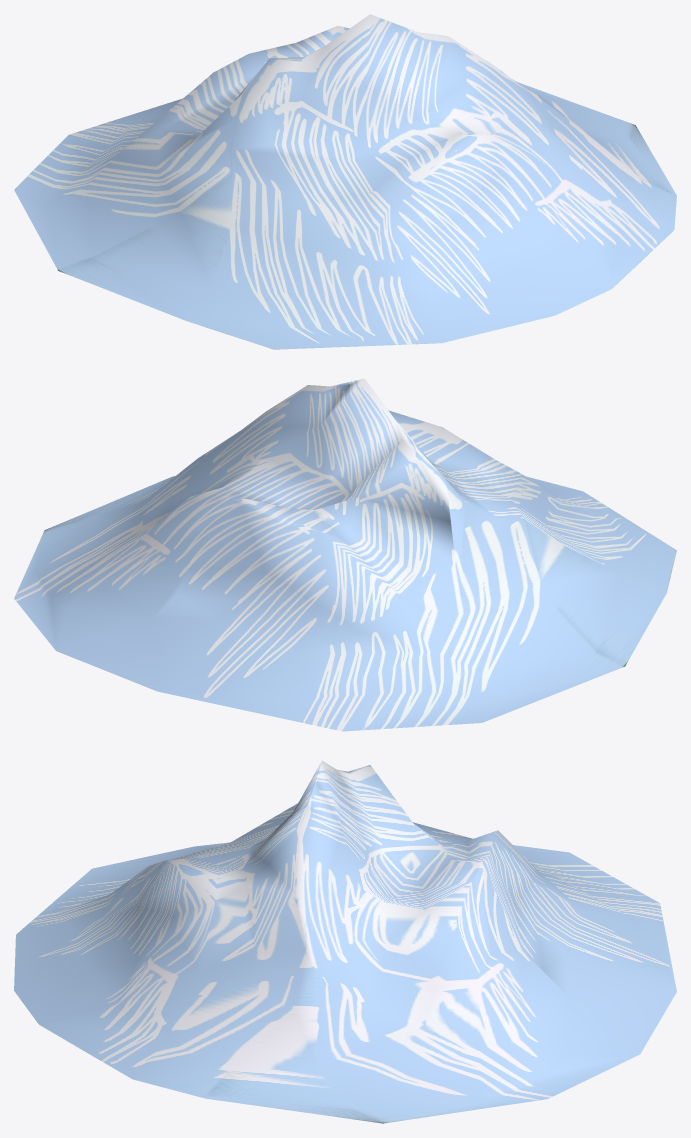
The model's file is mountain_1953.glb.
3 views of the same model, one above another, from view 1: azimuth 30°, elevation 25°; view 2: azimuth 150°, elevation 25°; view 3: azimuth 270°, elevation 25° (orthographic). The views are drawn at different scales.
Parts seen in each view (by area): view 1: Mountain_1953; view 2: Mountain_1953; view 3: Mountain_1953.
Part boxes in pixels (bbox=[...]): Mountain_1953: bbox=[14, 14, 676, 349]; Mountain_1953: bbox=[14, 378, 676, 731]; Mountain_1953: bbox=[14, 760, 676, 1123].
Size of the model in its own units: 91.27 by 30.68 by 86.16.
1 material, 1 textured.
